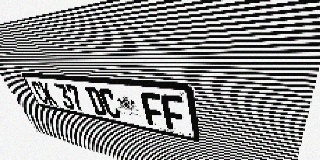3: (54, 83, 76, 110)
7: (64, 84, 87, 112)
C: (97, 88, 122, 119), (30, 81, 50, 105)
D: (84, 86, 108, 116)
F: (160, 94, 188, 133), (140, 92, 166, 128)
K: (38, 81, 59, 107)
